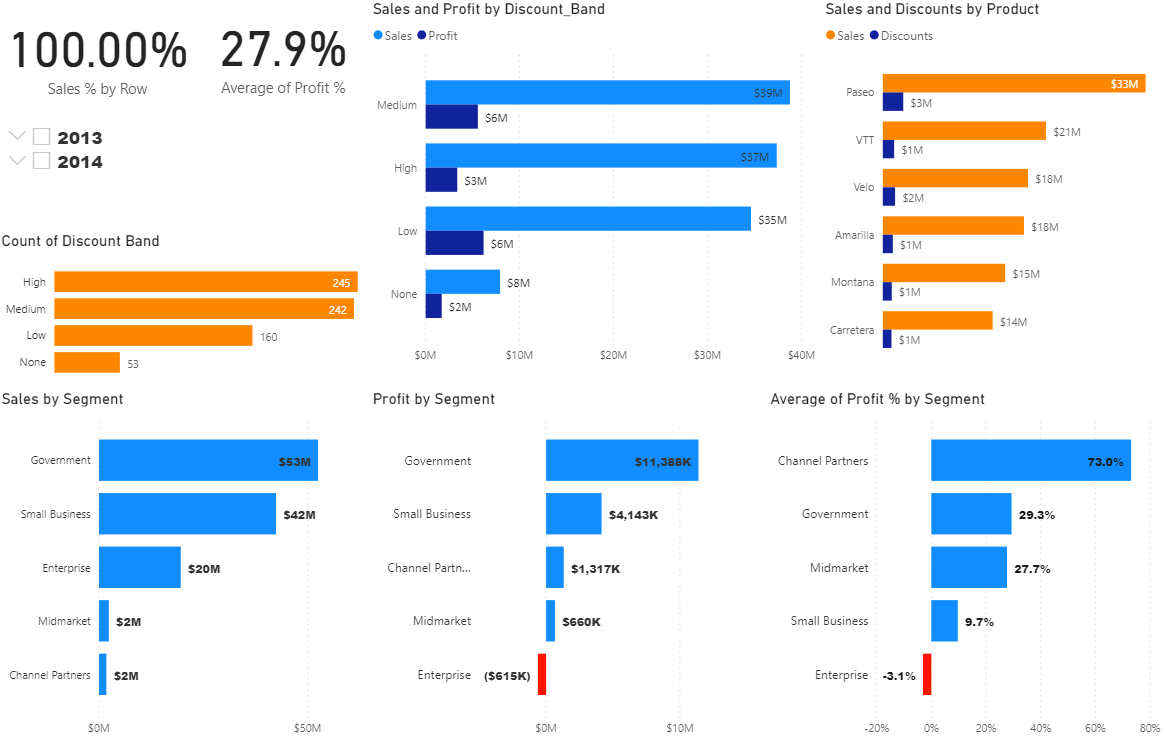

This screenshot's page, from the dashboard's own definition file:
{"tool":"powerbi","page":{"name":"Insights","canvas":[1284,820],"ordinal":1},"visuals":[{"type":"clusteredBarChart","fields":{"Y":["Sum(forSQL.Profit)"],"Category":["forSQL.Segment"]},"box":[407.9,428.5,436.8,391.5],"z":0},{"type":"clusteredBarChart","fields":{"Category":["forSQL.Discount_Band"],"Y":["Sum(forSQL.Sales)","Sum(forSQL.Profit)"]},"box":[407.9,0,497.2,410.7],"z":1000},{"type":"clusteredBarChart","title":"Count of Discount Band","fields":{"Category":["forSQL.Discount_Band"],"Y":["CountNonNull(forSQL.Discount_Band)"]},"box":[0,255.5,407.9,173.1],"z":1001},{"type":"clusteredBarChart","fields":{"Y":["Avg(forSQL.Profit %)"],"Category":["forSQL.Segment"]},"box":[844.7,428.5,439.5,391.5],"z":1002},{"type":"clusteredBarChart","fields":{"Category":["forSQL.Segment"],"Y":["Sum(forSQL.Sales)"]},"box":[0,428.5,407.9,391.5],"z":1003},{"type":"clusteredBarChart","fields":{"Category":["forSQL.Product"],"Y":["Sum(forSQL.Sales)","Sum(forSQL.Discounts)"]},"box":[905.2,0,379.1,410.7],"z":1004},{"type":"card","fields":{"Values":["Avg(forSQL.Profit %)"]},"box":[221.1,0,186.8,116.8],"z":1005},{"type":"card","fields":{"Values":["Sum(forSQL.Sales % by Row)"]},"box":[0,0,221.1,119.5],"z":1006},{"type":"slicer","fields":{"Values":["forSQL.Date.Variation.Date Hierarchy.Year","forSQL.Date.Variation.Date Hierarchy.Quarter","forSQL.Date.Variation.Date Hierarchy.Month","forSQL.Date.Variation.Date Hierarchy.Day"]},"box":[0,131.9,152.5,74.2],"z":1007}]}

Visuals, with their boxes in screenshot pixels (x1, y1, x2, y2), scaled from the page's 1284x820 canvas onto the 1165x742 screenshot:
clusteredBarChart - Sum(forSQL.Profit) x forSQL.Segment: pyautogui.locateOnScreen(370, 388, 766, 741)
clusteredBarChart - forSQL.Discount_Band x Sum(forSQL.Sales): pyautogui.locateOnScreen(370, 0, 821, 372)
"Count of Discount Band" clusteredBarChart: pyautogui.locateOnScreen(0, 231, 370, 388)
clusteredBarChart - Avg(forSQL.Profit %) x forSQL.Segment: pyautogui.locateOnScreen(766, 388, 1164, 741)
clusteredBarChart - forSQL.Segment x Sum(forSQL.Sales): pyautogui.locateOnScreen(0, 388, 370, 741)
clusteredBarChart - forSQL.Product x Sum(forSQL.Sales): pyautogui.locateOnScreen(821, 0, 1164, 372)
card - Avg(forSQL.Profit %): pyautogui.locateOnScreen(201, 0, 370, 106)
card - Sum(forSQL.Sales % by Row): pyautogui.locateOnScreen(0, 0, 201, 108)
slicer - forSQL.Date.Variation.Date Hierarchy.Year x forSQL.Date.Variation.Date Hierarchy.Quarter: pyautogui.locateOnScreen(0, 119, 138, 186)
